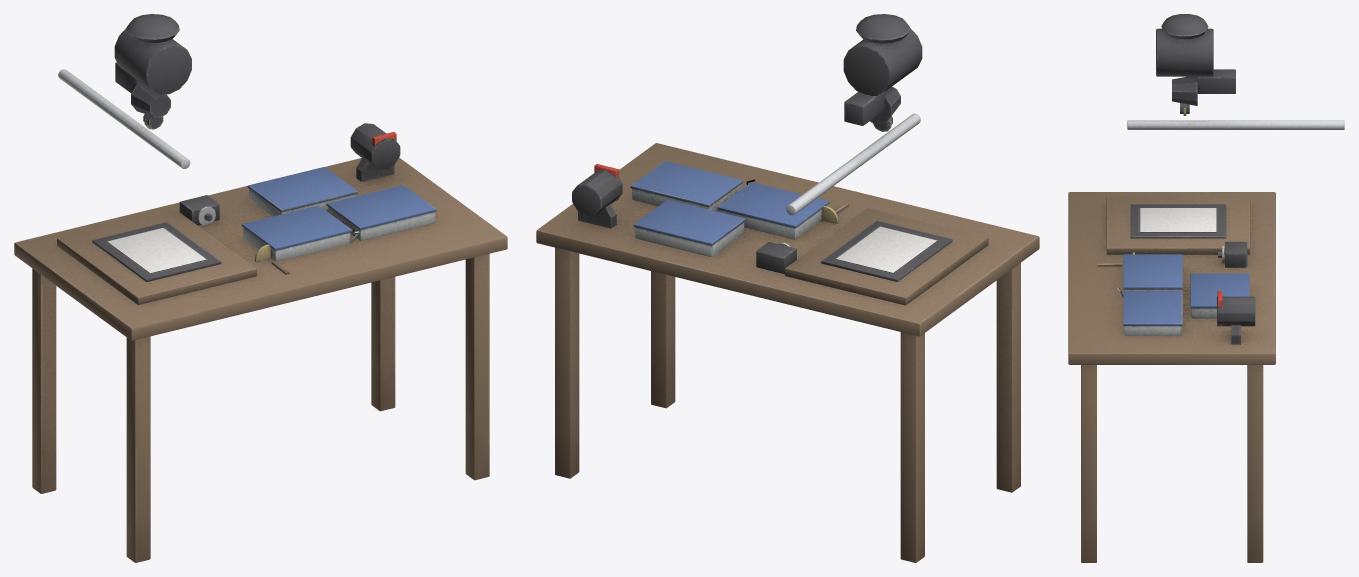
The model's file is darkroom_set.glb.
The picture shows the model from 3 angles, left to right: view 1: azimuth 30°, elevation 25°; view 2: azimuth 150°, elevation 25°; view 3: azimuth 270°, elevation 25°; orthographic projection. The views are drawn at different scales.
Visible parts, largest first — view 1: darkroom_set; view 2: darkroom_set; view 3: darkroom_set.
Part boxes in pixels (box(x1,y1,x2,y2)): darkroom_set: box(14, 14, 507, 562); darkroom_set: box(536, 14, 1039, 562); darkroom_set: box(1068, 14, 1344, 562).
Size of the model in its own units: 1.2 by 1.47 by 0.865.
1 material, 1 textured.
